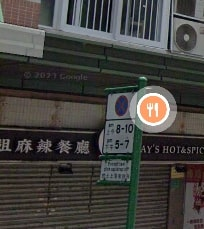Start Of No Stopping: (101, 81, 145, 157)
